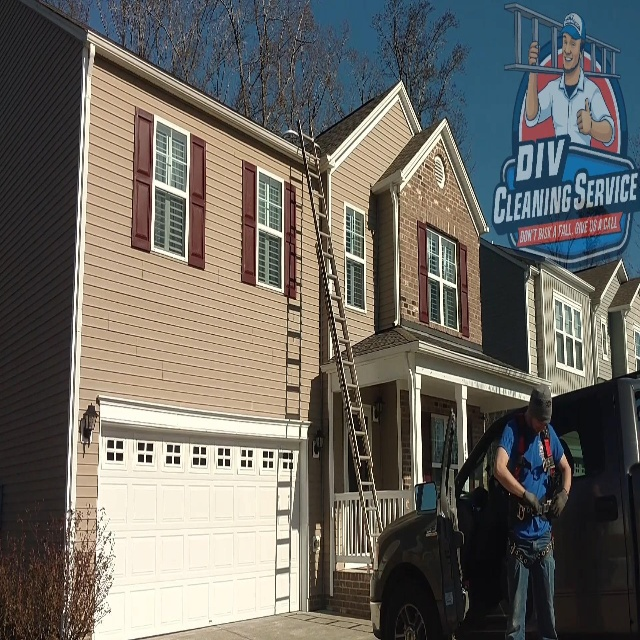Arnes_seguridad: (502, 411, 561, 566)
